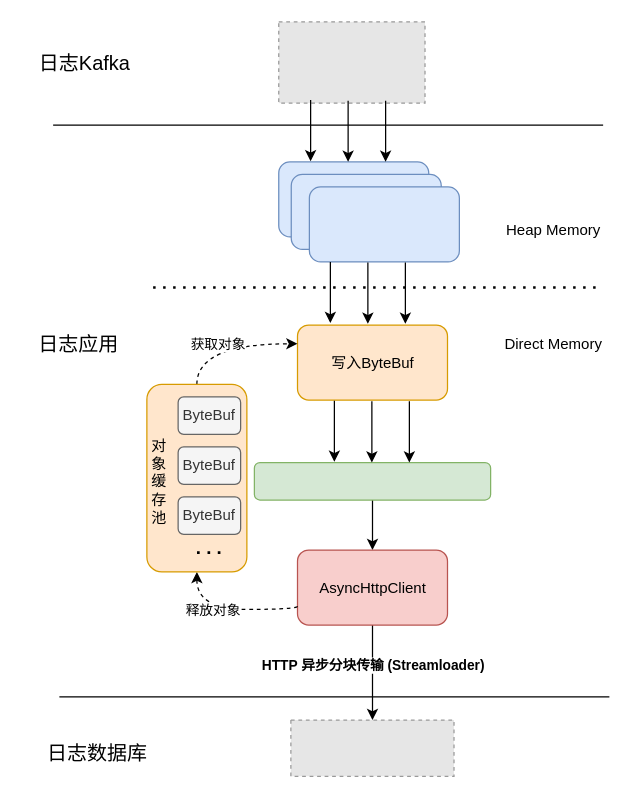
Some shapes in this 636 by 799 pixel diagram are drawn without their labels. Grey dashed boxes stand in for pictures. Here are the shapes that lost their labels. From the top down, the centre of each, then its label:
At (383,224): "数据处理".
At (372,480): "MpscArrayQueue<ByteBuf>".
